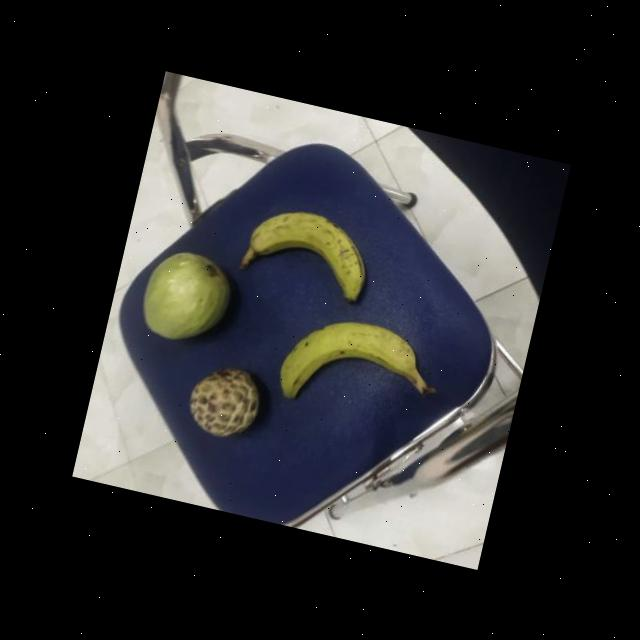Sakya fruit: (178, 361, 266, 448)
banana: (274, 306, 428, 431), (233, 198, 374, 306)
guava: (130, 242, 239, 350)
